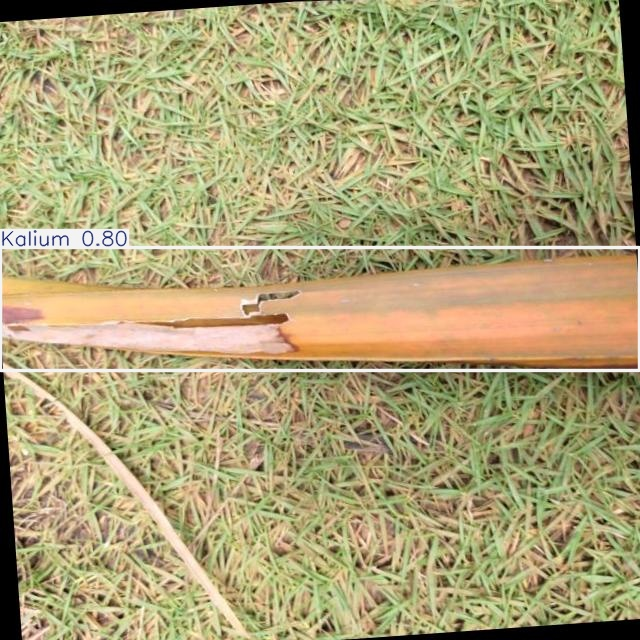Kalium: (1, 248, 640, 371)
